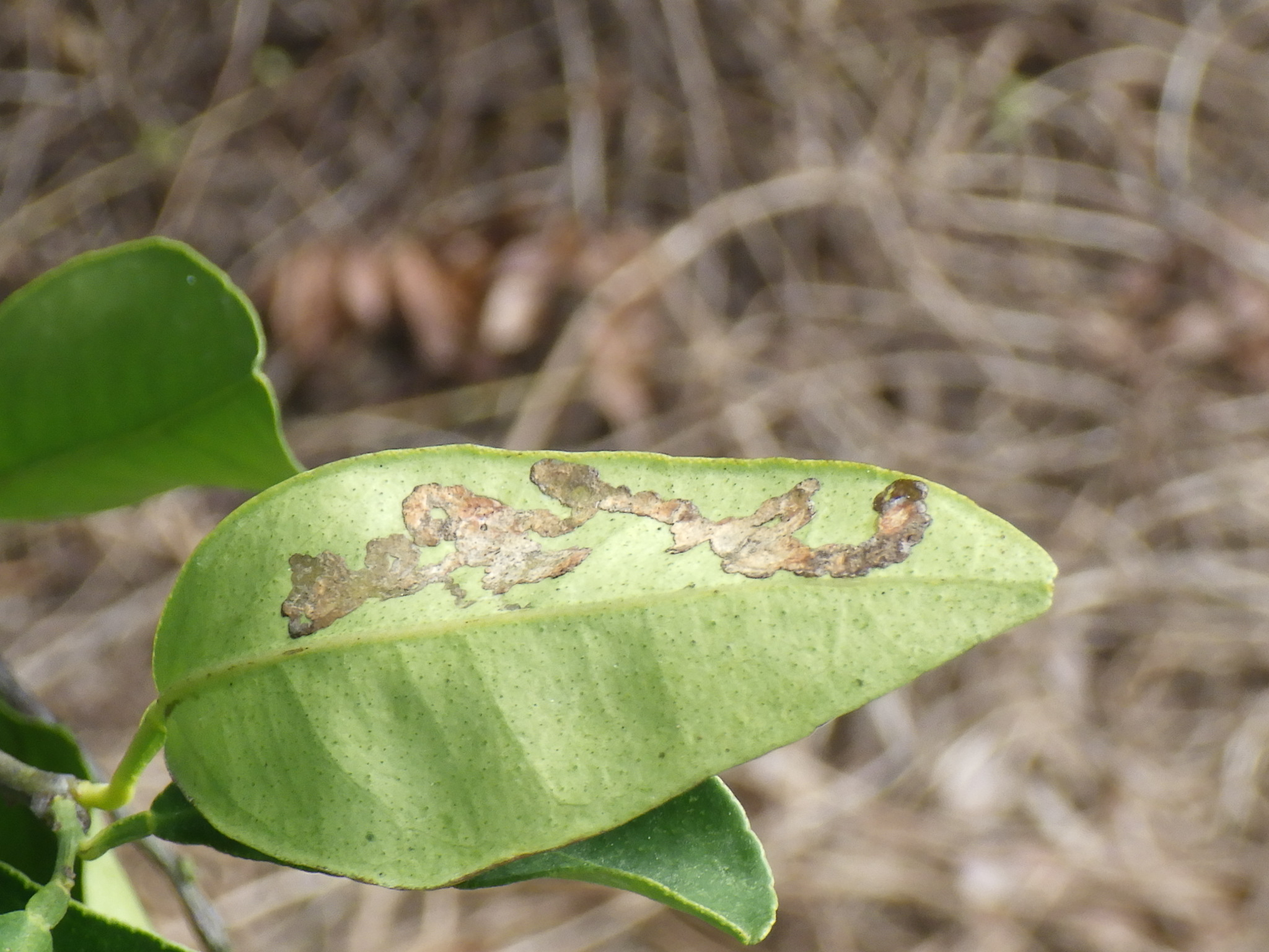Citrus_Leaf_Miner: (281, 459, 924, 638)
